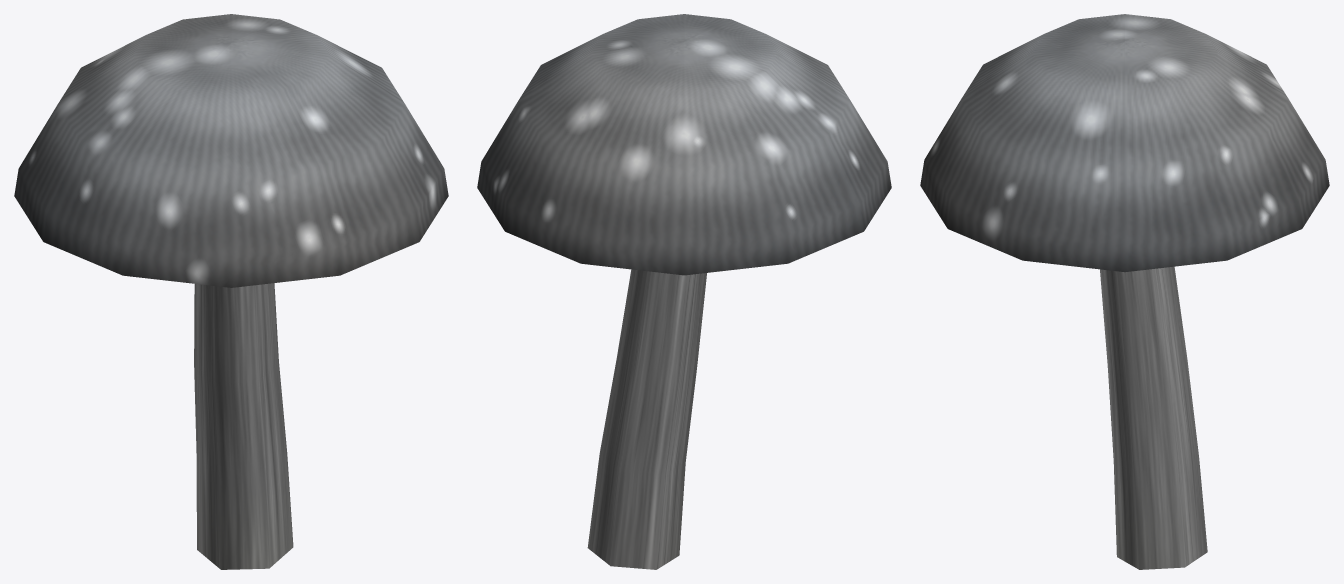
The model's file is toadstool_l0.gltf.
3 views of the same model, side by side, from view 1: azimuth 30°, elevation 25°; view 2: azimuth 150°, elevation 25°; view 3: azimuth 270°, elevation 25° (orthographic). The views are drawn at different scales.
Parts seen in each view (by area): view 1: toadstool_l0; view 2: toadstool_l0; view 3: toadstool_l0.
Boxes of the visible parts, x1,y1,x2,y2 form: toadstool_l0: [14, 14, 448, 569]; toadstool_l0: [477, 14, 891, 569]; toadstool_l0: [920, 14, 1329, 569].
Size of the model in its own units: 0.9 by 1.22 by 0.9.
Materials: 2 (2 with a texture image).
